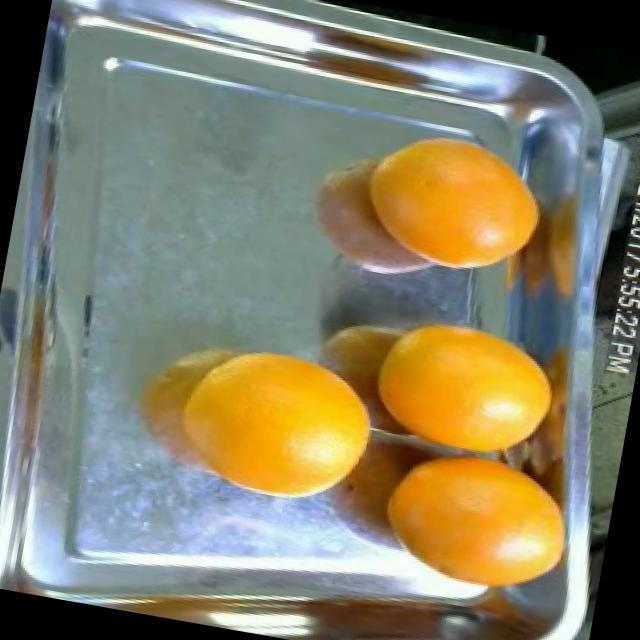Fruit: (330, 98, 574, 311), (164, 320, 406, 517), (338, 289, 584, 470)
